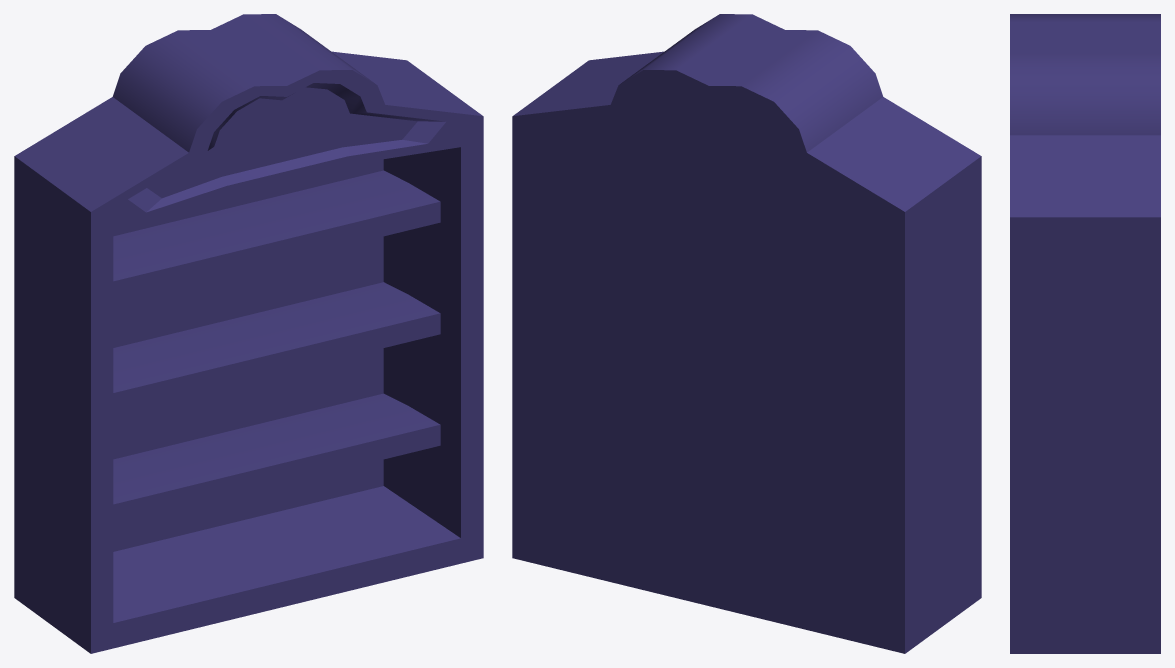
Rendered from SM_Library_Bookshelf_B.fbx.
The picture shows the model from 3 angles, left to right: view 1: azimuth 30°, elevation 25°; view 2: azimuth 150°, elevation 25°; view 3: azimuth 270°, elevation 25°; orthographic projection.
Parts seen in each view (by area): view 1: SM_Library_Bookshelf_B; view 2: SM_Library_Bookshelf_B; view 3: SM_Library_Bookshelf_B.
Boxes of the visible parts, <box> form: SM_Library_Bookshelf_B: <box>14,14,483,653</box>; SM_Library_Bookshelf_B: <box>512,14,981,653</box>; SM_Library_Bookshelf_B: <box>1010,14,1160,653</box>.
Bounding box in the file's own units: 288 × 370 × 97.15.
